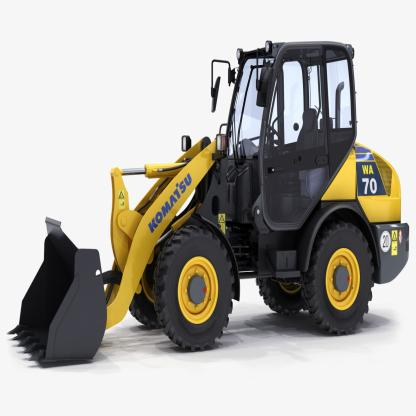bull_dozer/loader/grader: (5, 34, 416, 393)
